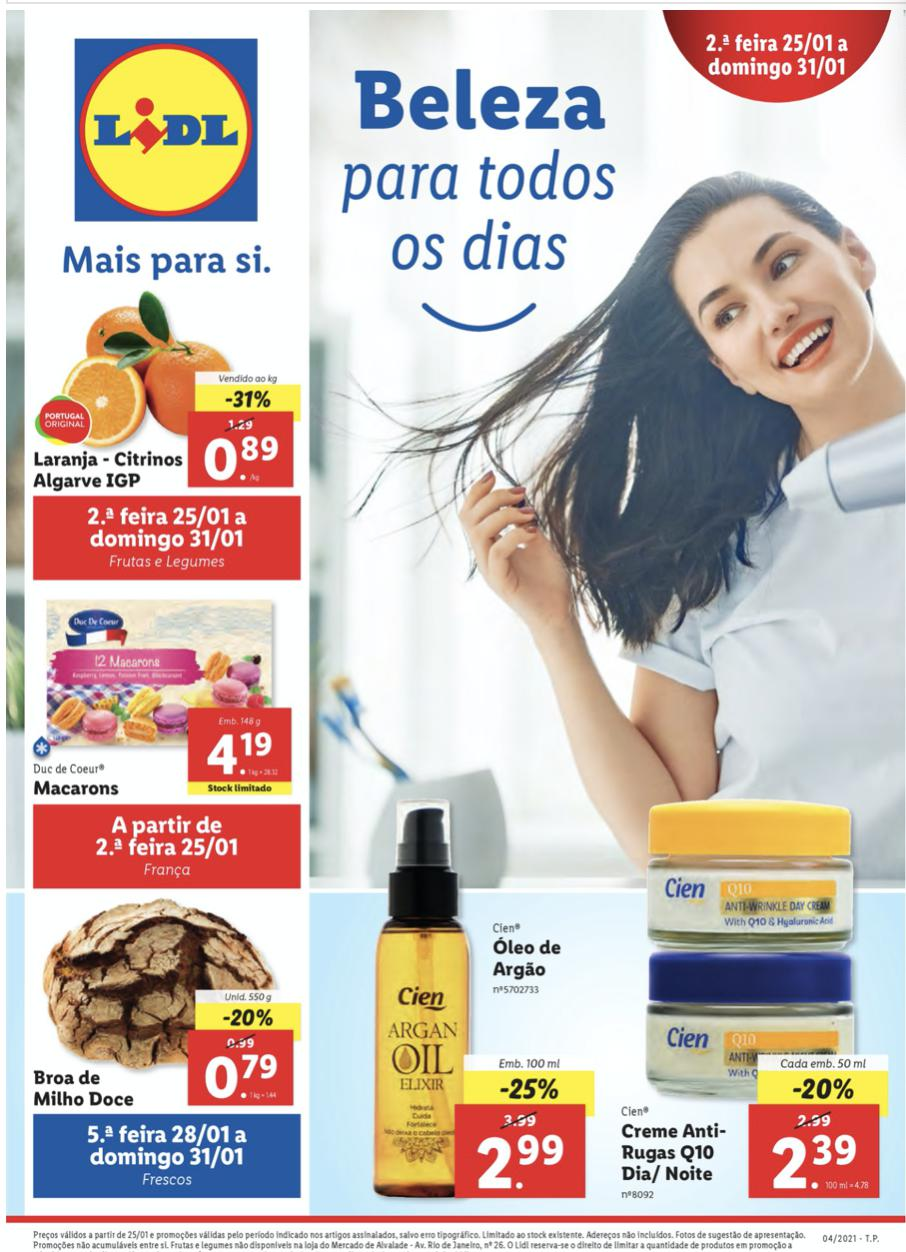name: (612, 1119, 728, 1187), (32, 448, 187, 492), (31, 1067, 142, 1111), (485, 934, 570, 978), (35, 780, 124, 798)
price: (473, 1131, 568, 1198), (773, 1134, 862, 1194), (195, 727, 288, 777), (203, 1055, 281, 1108), (206, 437, 281, 486)
product: (603, 778, 906, 1206), (356, 802, 603, 1206), (23, 892, 303, 1111), (26, 281, 304, 491), (29, 584, 299, 800)
promotion: (496, 1073, 565, 1108), (790, 1075, 862, 1108), (223, 384, 276, 414), (218, 1008, 281, 1031)
